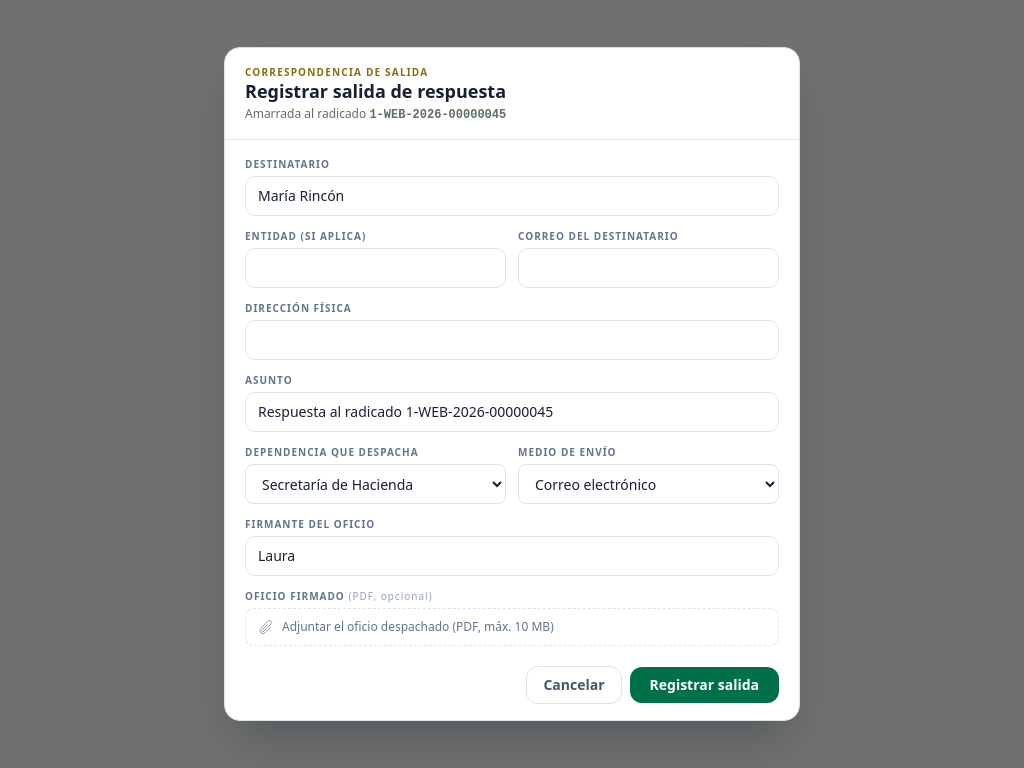
Radicación de salida — RegistrarSalidaModal › muestra el mensaje cuando el endpoint falla
Click the button "Registrar salida": click(704, 685) [630,667,779,703]
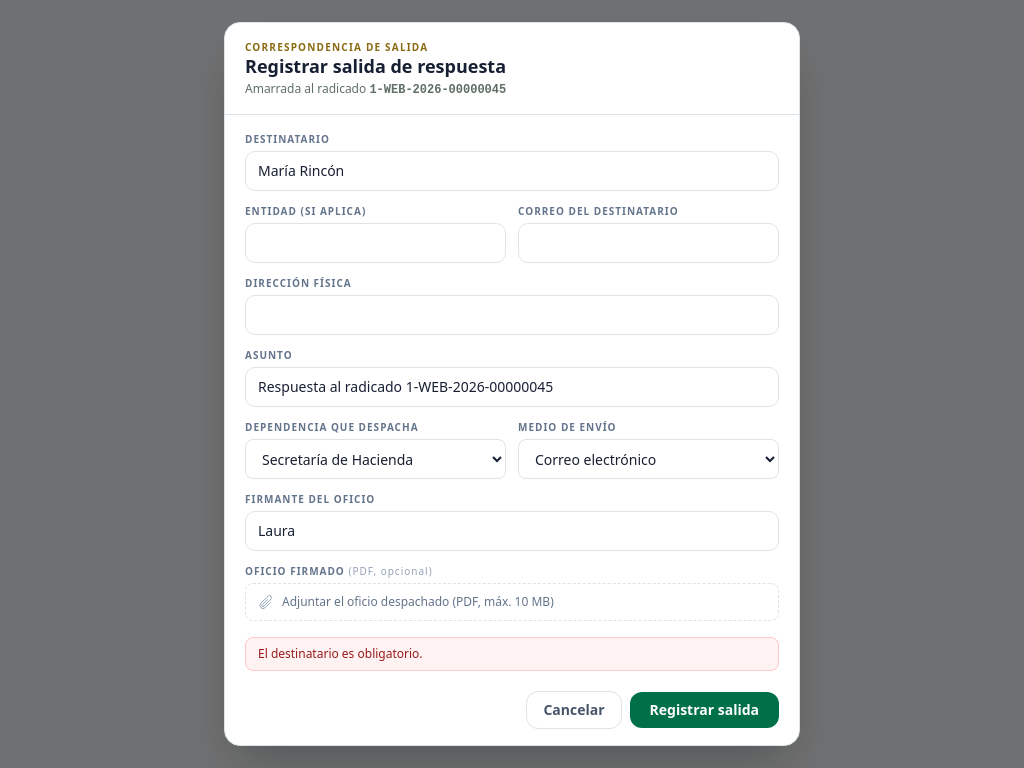
Expected: the message shows "destinatario es obligatorio", [258,645,423,662]
